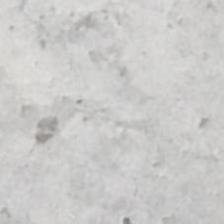Non_Crack: (24, 22, 211, 210)
